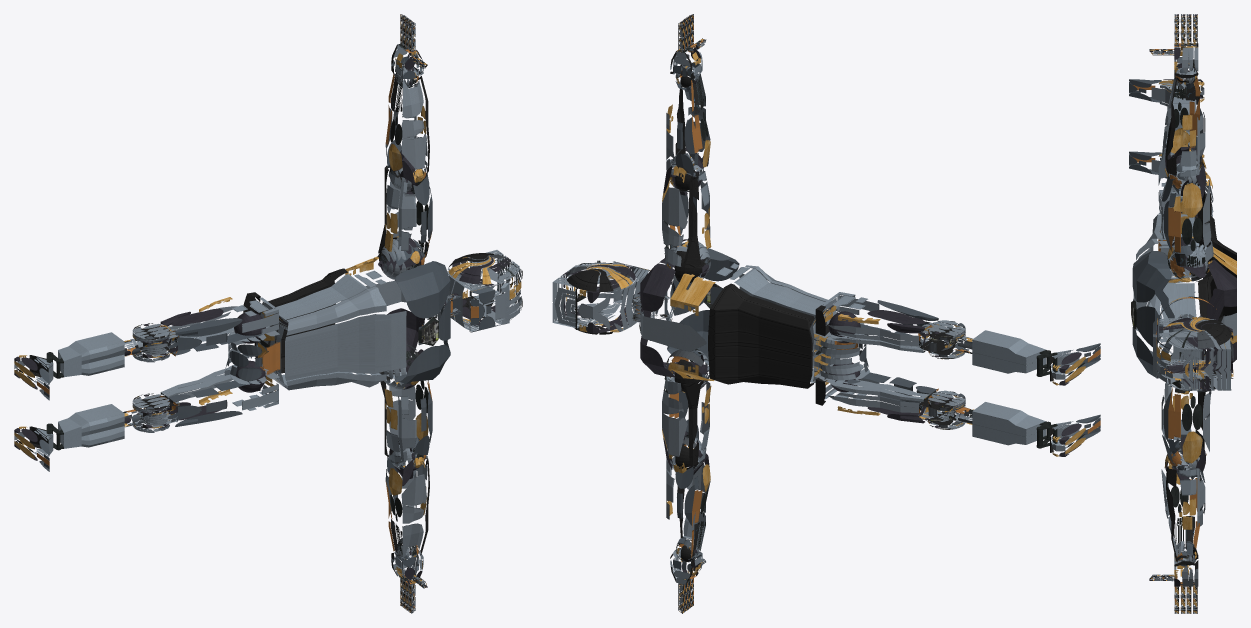
File: Импорт.fbx
3 views of the same model, side by side, from view 1: azimuth 30°, elevation 25°; view 2: azimuth 150°, elevation 25°; view 3: azimuth 270°, elevation 25° (orthographic).
Visible parts, largest first — view 1: Model; view 2: Model; view 3: Model.
Part boxes in pixels (x1,y1,x2,y2): Model: (14, 14, 522, 613); Model: (552, 14, 1100, 613); Model: (1129, 14, 1236, 613).
Size of the model in its own units: 72.55 by 392 by 446.
